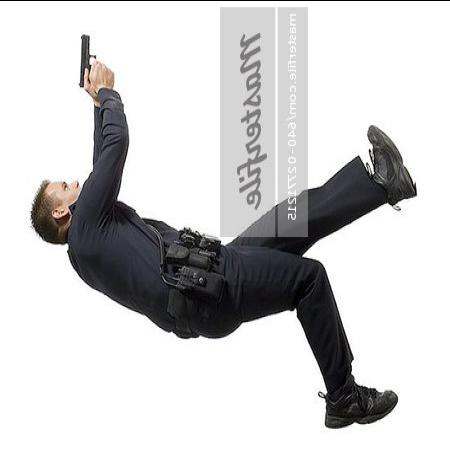Pistol: (74, 30, 115, 99)
